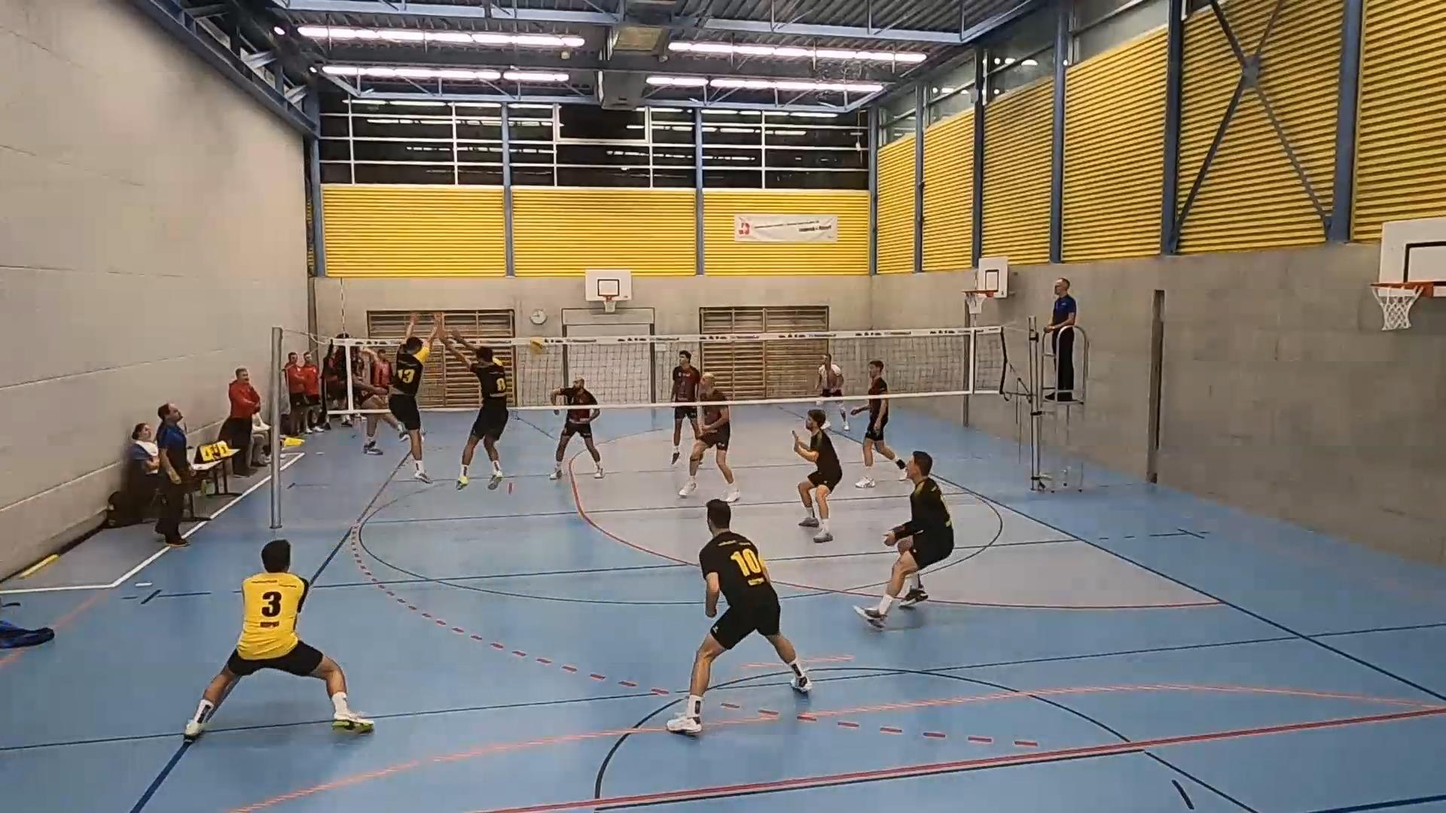attacco: (339, 320, 410, 458)
muro: (439, 325, 520, 492), (373, 309, 438, 480)
